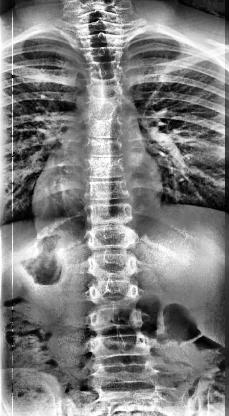Vertebrae: (85, 356, 161, 390), (82, 329, 154, 363), (82, 249, 140, 283), (82, 304, 146, 334), (82, 279, 144, 309), (82, 225, 140, 253), (78, 113, 130, 139), (82, 178, 132, 204), (82, 201, 134, 226), (78, 135, 130, 159), (79, 154, 127, 180), (76, 92, 126, 116), (78, 72, 126, 96), (80, 60, 126, 82), (75, 19, 127, 37), (80, 46, 126, 64), (76, 32, 126, 48), (74, 8, 122, 24)
